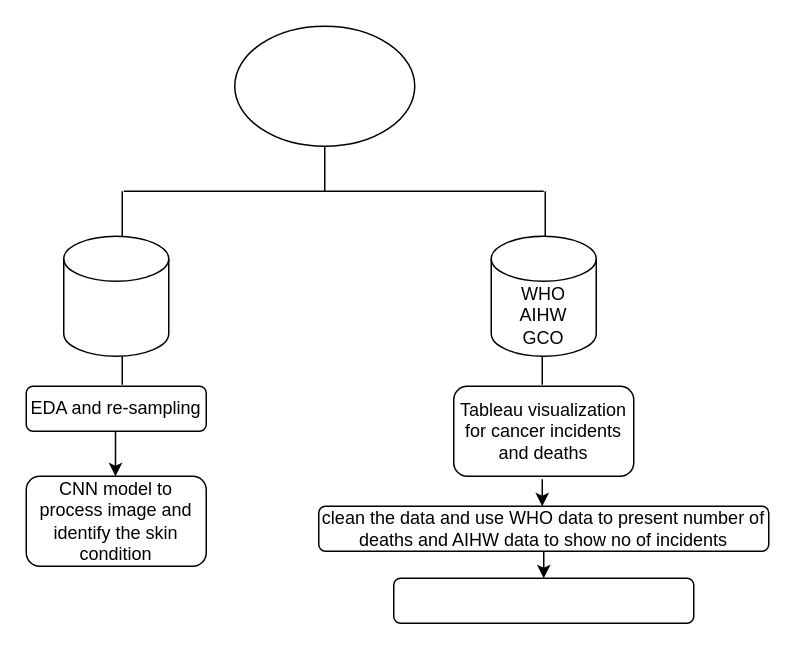
Some shapes in this 795 by 650 pixel diagram are drawn without their labels. The shapes that lost their labels are listed below. From the top down, each one's centre as x and y in pixels, then its label:
the point at 324,85: Download Dataset
the point at 115,295: ISIC Kaggle
the point at 543,600: create dashboards and story
